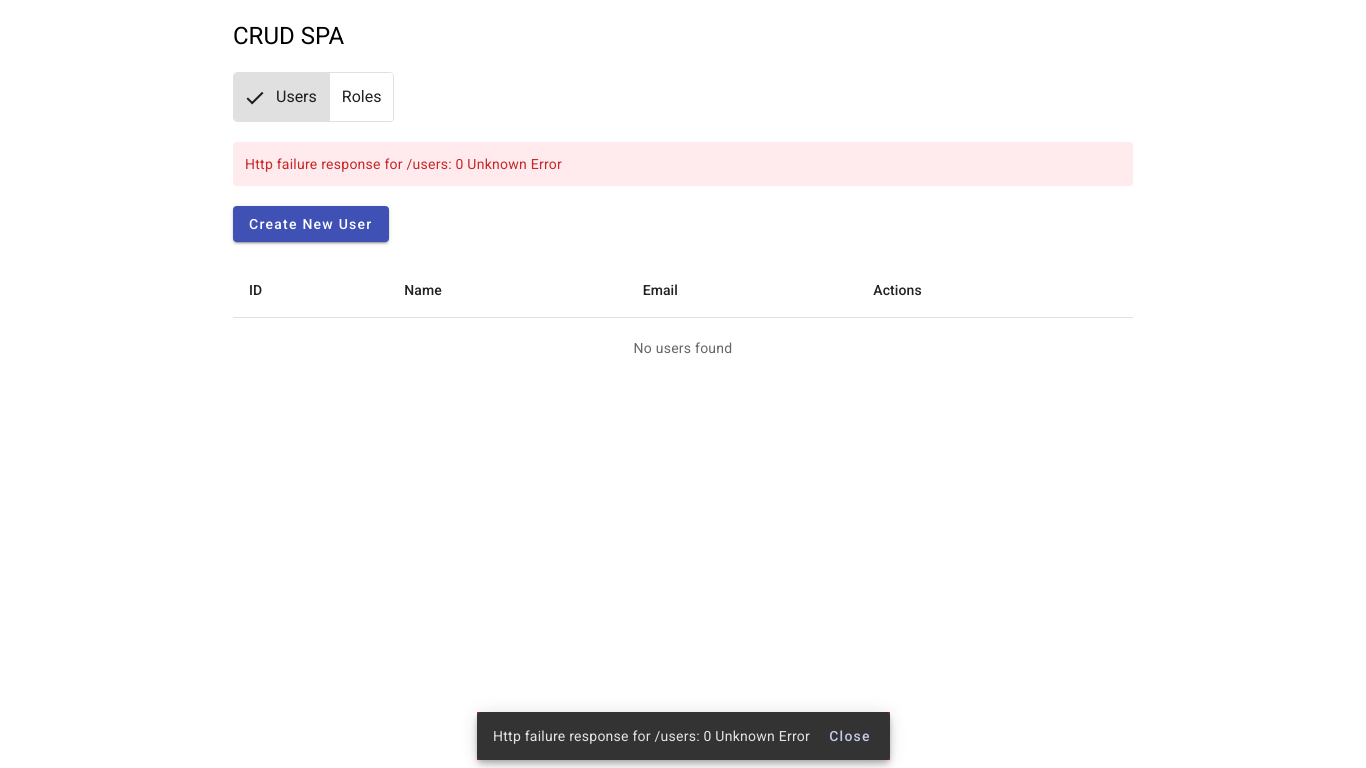
User CRUD SPA › US2: Create User › should show validation error for empty name
Step 1. Click the button "Create New User" → coordinates (311, 224), box [233,206,389,242]
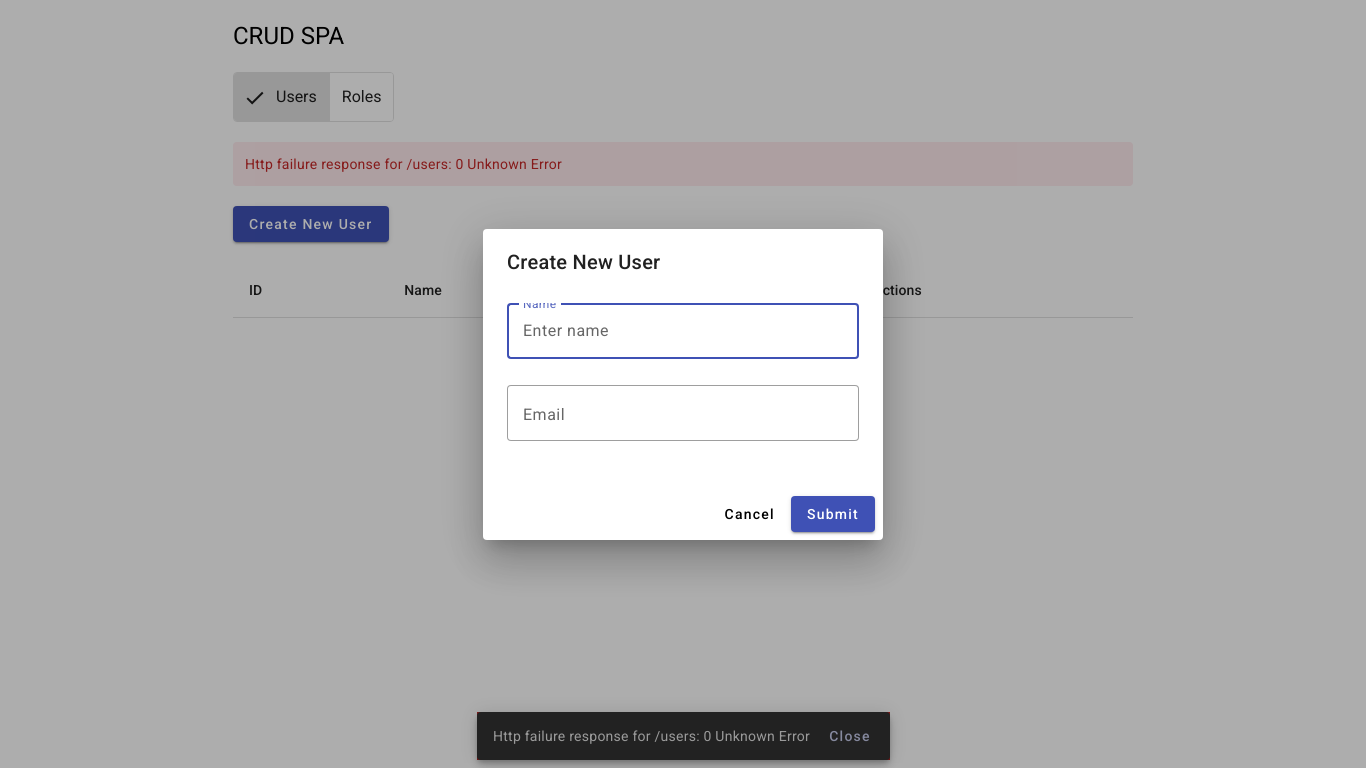
Step 2. Type "test@example.com" into the field named "email" → coordinates (683, 413), box [523,401,843,425]
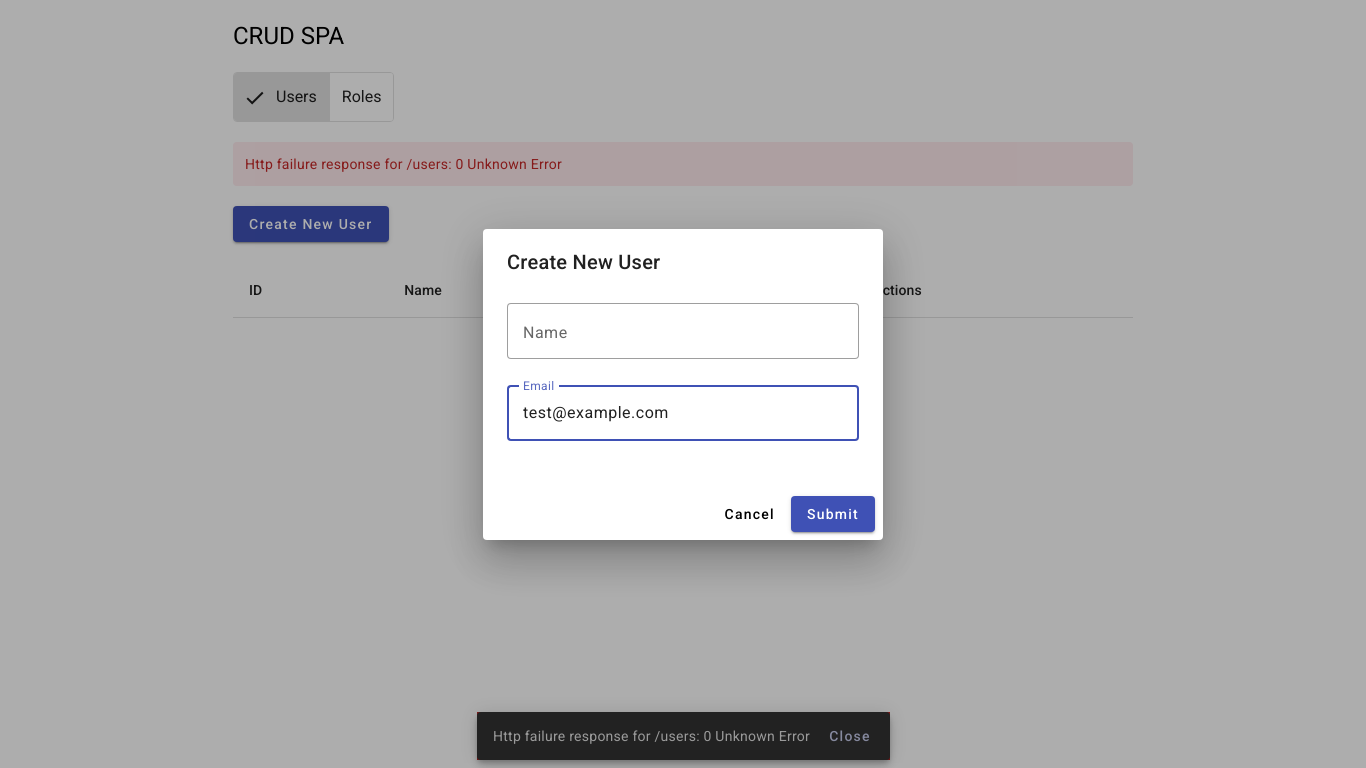
Step 3. Click the button "Submit" → coordinates (833, 514), box [791,496,875,532]
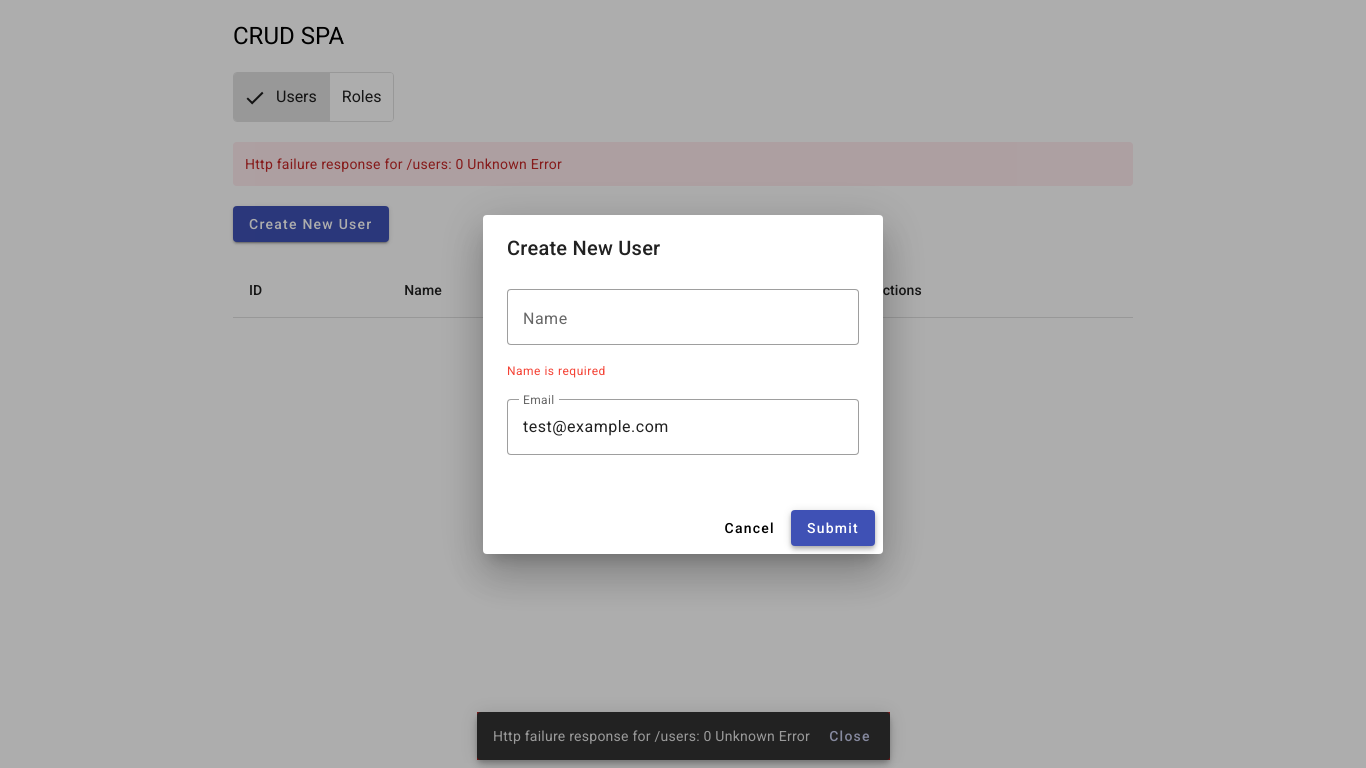
expect the text "Name is required" is shown: met, box [507,364,606,378]
